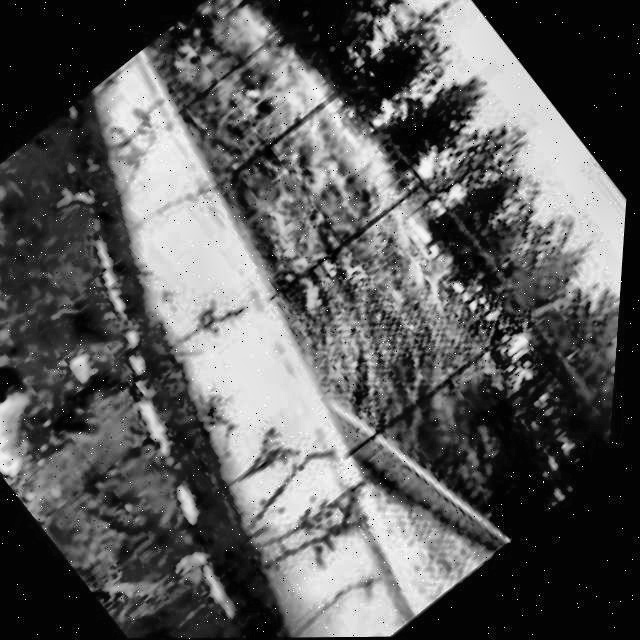Fire: (0, 331, 43, 443)
